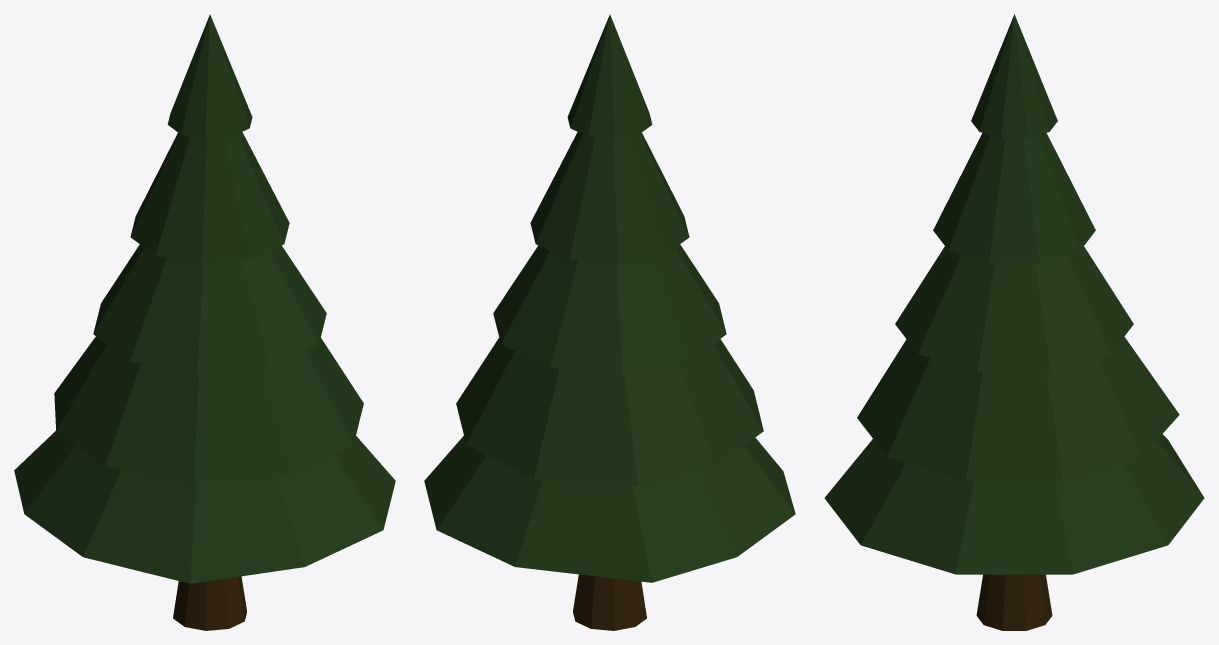
The model's file is pino.fbx.
3 views of the same model, side by side, from view 1: azimuth 30°, elevation 25°; view 2: azimuth 150°, elevation 25°; view 3: azimuth 270°, elevation 25° (orthographic).
Visible parts, largest first — view 1: Cylinder, Cylinder.001; view 2: Cylinder, Cylinder.001; view 3: Cylinder, Cylinder.001.
Part boxes in pixels (x1=…): Cylinder: x1=14, y1=14, x2=395, y2=583; Cylinder.001: x1=173, y1=576, x2=246, y2=630; Cylinder: x1=424, y1=14, x2=795, y2=582; Cylinder.001: x1=573, y1=574, x2=646, y2=630; Cylinder: x1=824, y1=14, x2=1204, y2=574; Cylinder.001: x1=976, y1=574, x2=1052, y2=630.
Size of the model in its own units: 678 by 1245 by 713.
